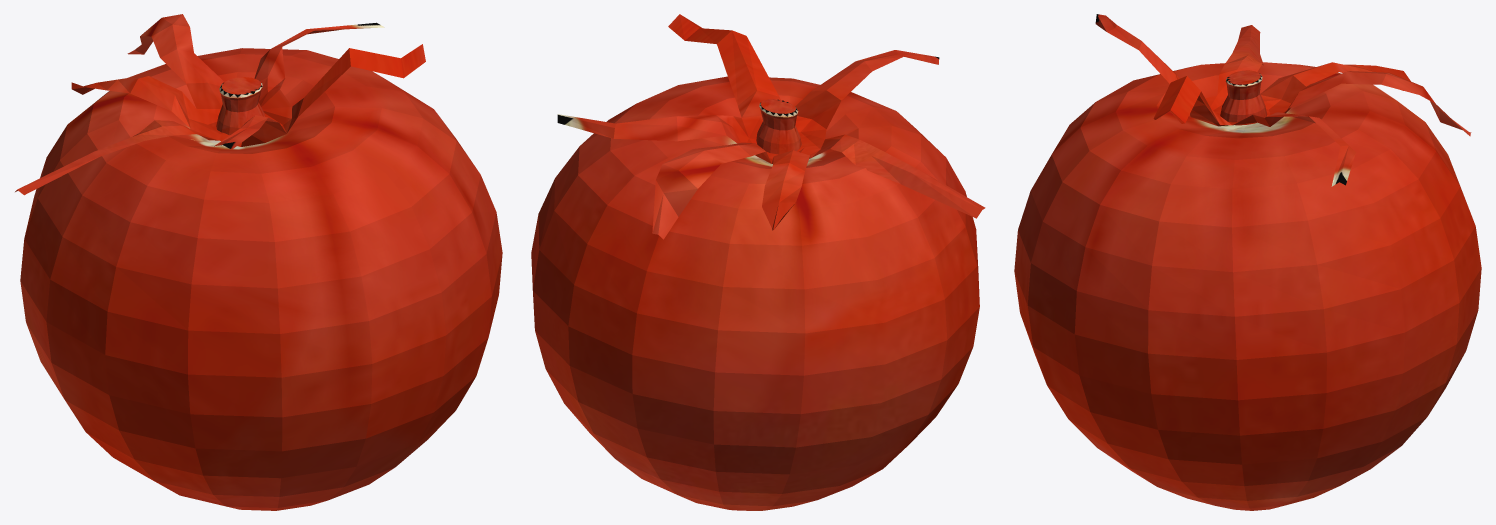
The model's file is tomato.obj.
3 views of the same model, side by side, from view 1: azimuth 30°, elevation 25°; view 2: azimuth 150°, elevation 25°; view 3: azimuth 270°, elevation 25° (orthographic). The views are drawn at different scales.
Parts seen in each view (by area): view 1: tomato; view 2: tomato; view 3: tomato.
Boxes of the visible parts, x1,y1,x2,y2 form: tomato: [15, 14, 502, 510]; tomato: [531, 14, 985, 510]; tomato: [1014, 14, 1481, 510].
Size of the model in its own units: 0.0831 by 0.0813 by 0.077.
1 material, 1 textured.
